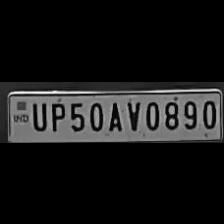0: (86, 98, 106, 132), (141, 96, 161, 130), (199, 96, 217, 128)
5: (66, 98, 86, 132)
8: (160, 96, 178, 130)
9: (180, 96, 198, 130)
A: (105, 96, 124, 132)
P: (47, 97, 65, 132)
U: (28, 98, 46, 132)
V: (124, 96, 140, 132)
